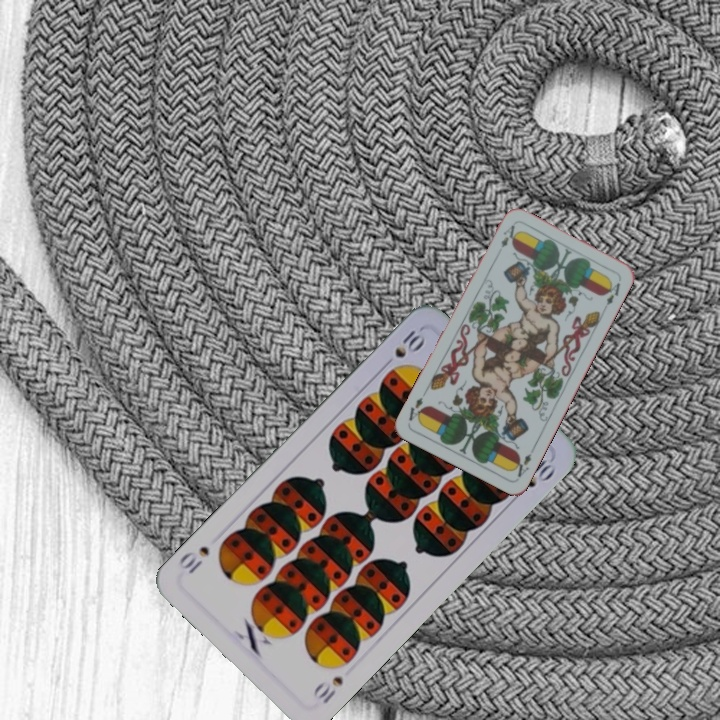EA: (509, 449, 534, 480), (497, 221, 517, 250)
S10: (380, 325, 428, 371), (308, 671, 346, 707)
